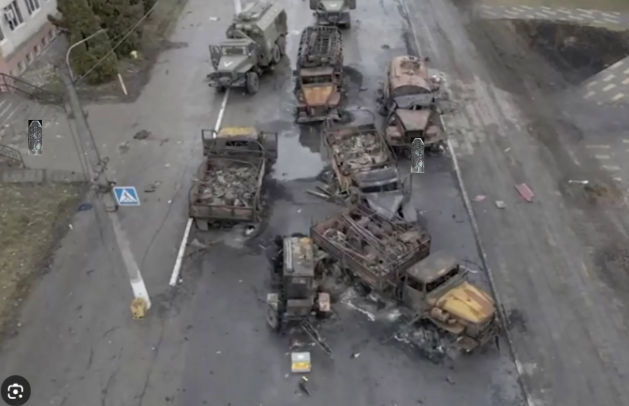HVT1: (411, 137, 423, 173), (28, 121, 41, 154)
